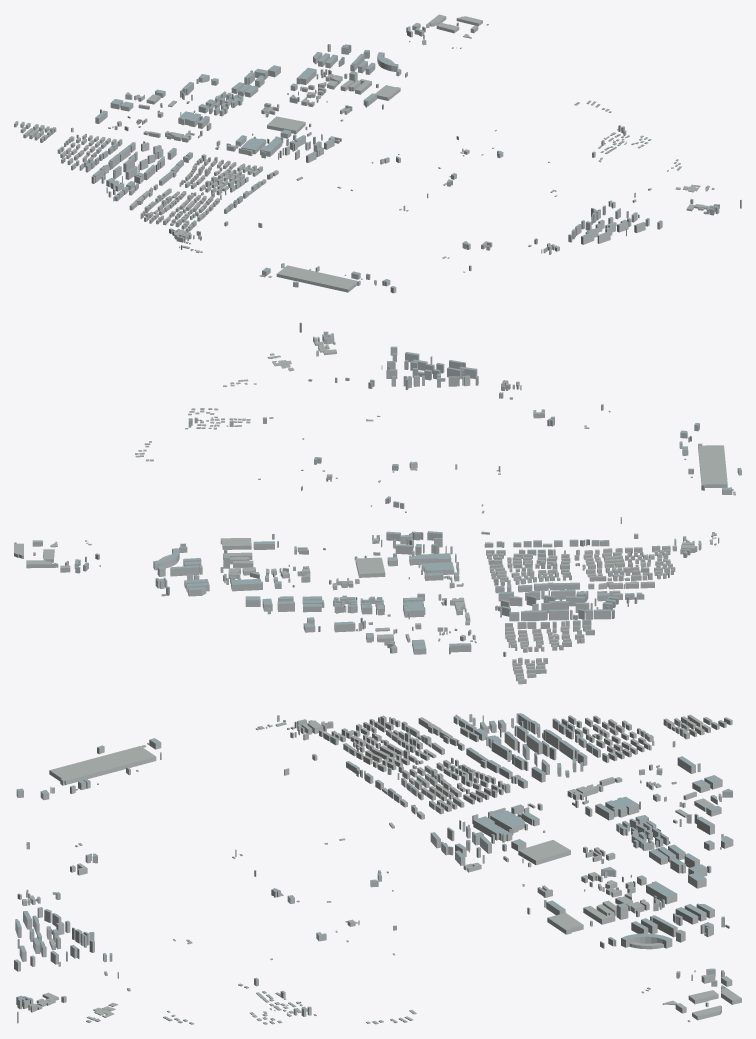
File: far.glb
3 renders of one model, top to bottom at view 1: azimuth 30°, elevation 25°; view 2: azimuth 150°, elevation 25°; view 3: azimuth 270°, elevation 25°, orthographic. The views are drawn at different scales.
Bounding box in the file's own units: 2113 × 39.86 × 2125.
